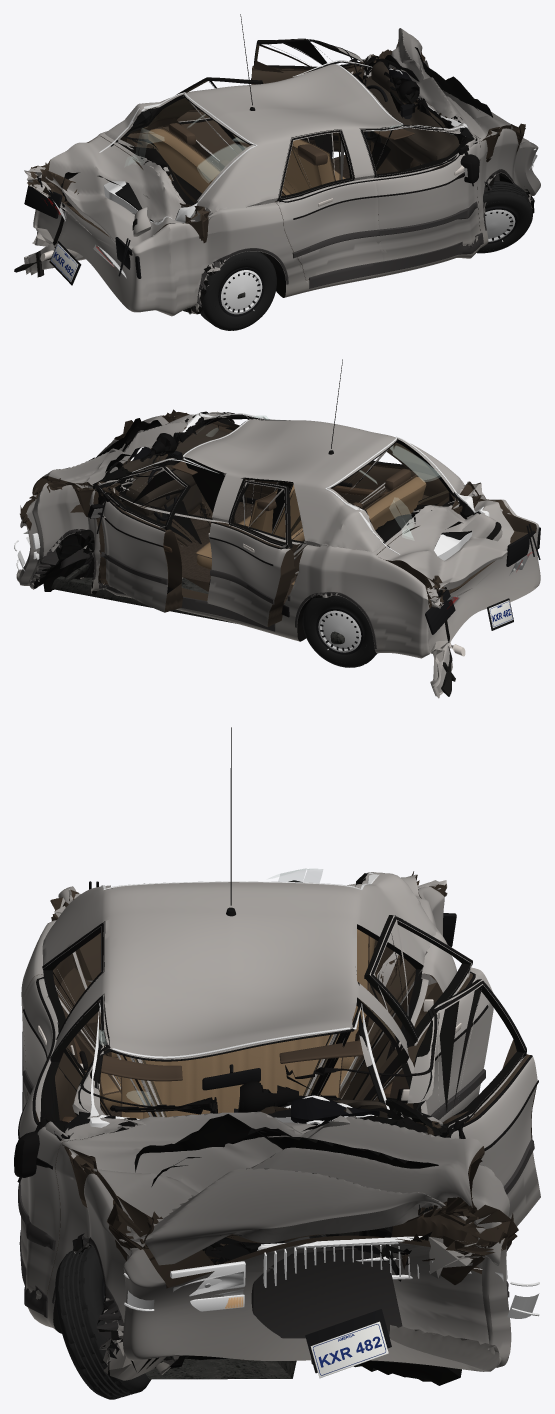
File: sedan87_front_d3.glb
3 renders of one model, top to bottom at view 1: azimuth 30°, elevation 25°; view 2: azimuth 150°, elevation 25°; view 3: azimuth 270°, elevation 25°, orthographic. The views are drawn at different scales.
Visible parts, largest first — view 1: Body, Interior, Door_FR, Trunk, Door_RR, Wheel_RR_mesh, Hood, Glass, Trim, Wheel_FR_mesh, Door_FL, Trim_FR (+4 smaller); view 2: Body, Door_FL, Interior, Door_RL, Trunk, Glass, Wheel_RL_mesh, Hood, Trim, Ends, Underbody, Trim_FL (+4 smaller); view 3: Body, Hood, Interior, Door_FL, Engine, Ends, Door_FR, Door_RL, Wheel_FR_mesh, Trim, Glass, Door_RR (+5 smaller).
Part boxes in pixels (x1,y1,x2,y2): Body: [24, 43, 540, 316]; Interior: [148, 61, 459, 195]; Door_FR: [359, 116, 480, 261]; Trunk: [40, 136, 191, 249]; Door_RR: [275, 129, 383, 280]; Wheel_RR_mesh: [200, 251, 276, 330]; Hood: [375, 28, 517, 141]; Glass: [99, 60, 468, 225]; Trim: [197, 14, 533, 307]; Wheel_FR_mesh: [476, 181, 532, 253]; Door_FL: [251, 39, 379, 151]; Trim_FR: [360, 99, 479, 235]; Body: [16, 409, 540, 663]; Door_FL: [92, 466, 190, 612]; Interior: [121, 423, 426, 587]; Door_RL: [207, 480, 296, 626]; Trunk: [377, 495, 515, 592]; Glass: [132, 413, 489, 560]; Wheel_RL_mesh: [302, 595, 377, 667]; Hood: [29, 414, 193, 512]; Trim: [30, 359, 376, 648]; Ends: [14, 524, 540, 634]; Underbody: [51, 551, 465, 656]; Trim_FL: [88, 460, 186, 593]; Body: [21, 872, 518, 1385]; Hood: [62, 1106, 484, 1265]; Interior: [99, 929, 387, 1125]; Door_FL: [385, 979, 540, 1226]; Engine: [215, 1226, 402, 1338]; Ends: [54, 881, 539, 1378]; Door_FR: [19, 994, 135, 1296]; Door_RL: [364, 915, 493, 1122]; Wheel_FR_mesh: [55, 1245, 151, 1399]; Trim: [19, 727, 509, 1364]; Glass: [89, 868, 391, 1127]; Door_RR: [22, 921, 105, 1117].
Size of the model in its own units: 3.82 by 2.16 by 2.16.
33 materials, 5 textured.
